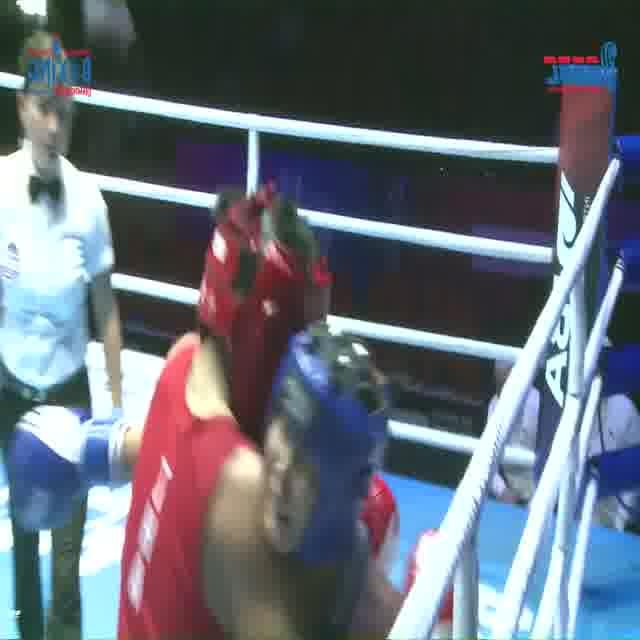blue-player: (6, 309, 421, 640)
red-player: (114, 169, 482, 640)
referee: (0, 23, 137, 640)
